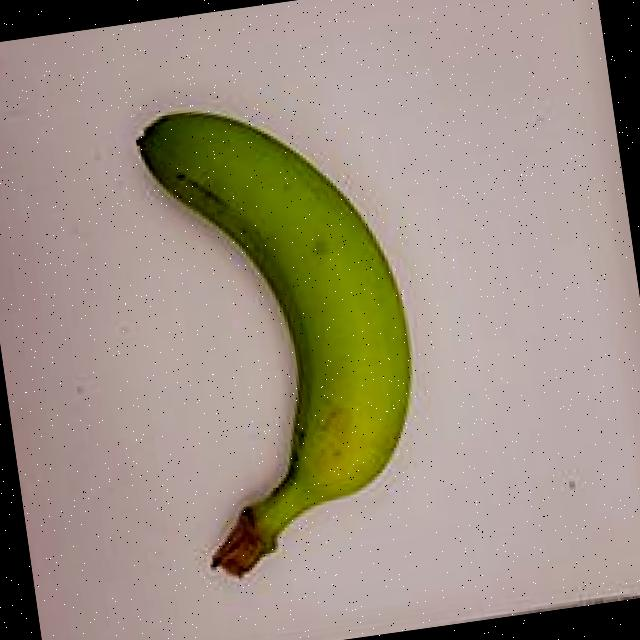Unripe: (98, 60, 517, 615)
